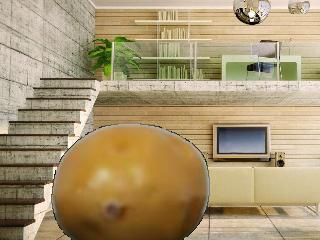potato: (51, 123, 210, 239)
